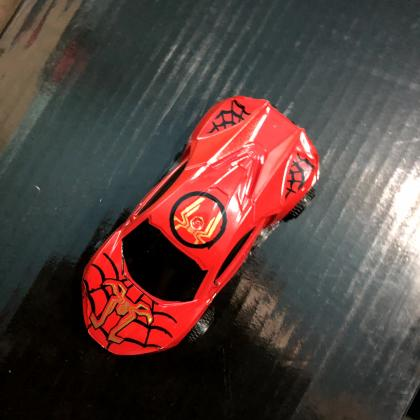Car: (77, 96, 321, 358)
